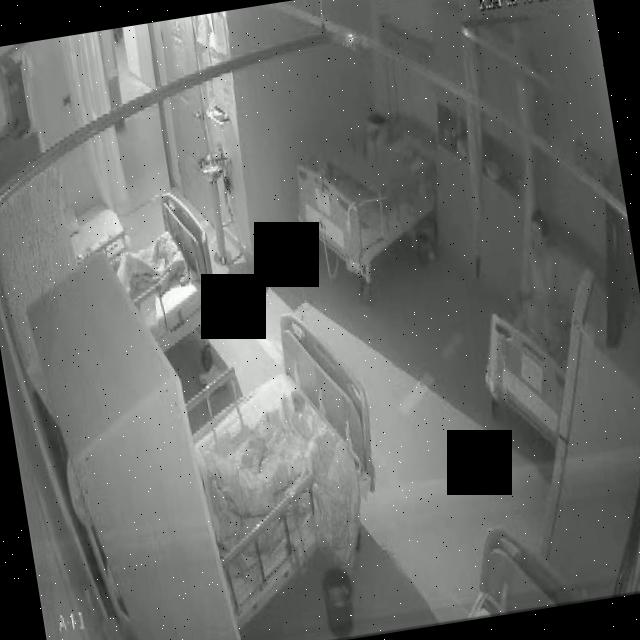bed: (176, 310, 390, 600), (284, 98, 448, 270), (472, 218, 606, 413), (108, 184, 226, 353)
patient: (504, 206, 570, 346)
sit: (504, 204, 574, 354)
